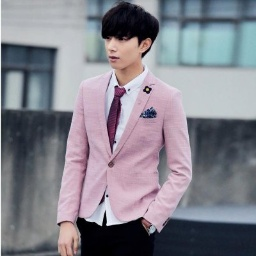face: (99, 2, 160, 71)
